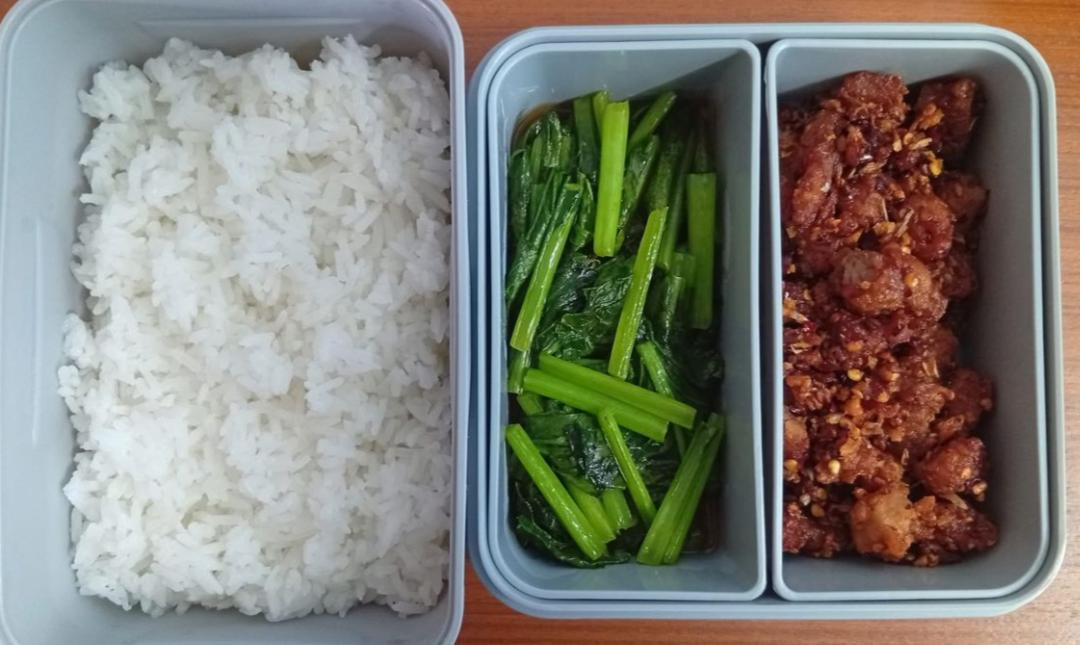buah_sayur_lainnya: (536, 123, 707, 531)
daging: (806, 105, 993, 539)
makanan_berpati: (106, 77, 435, 598)
